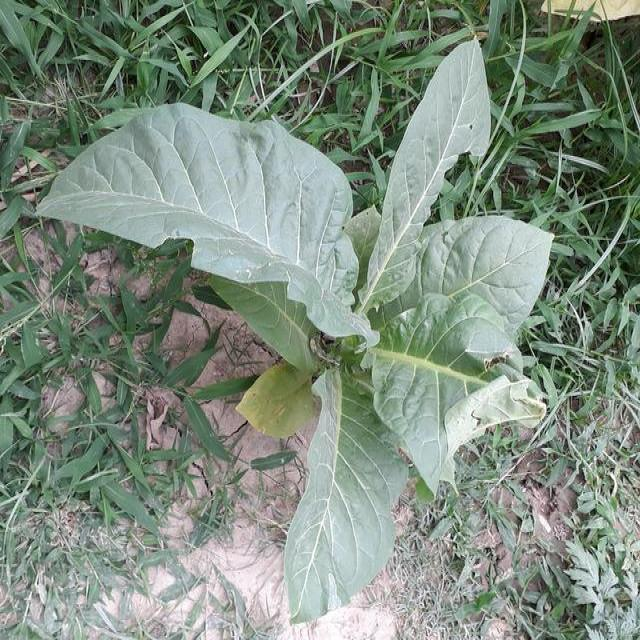crop: (69, 92, 548, 588)
